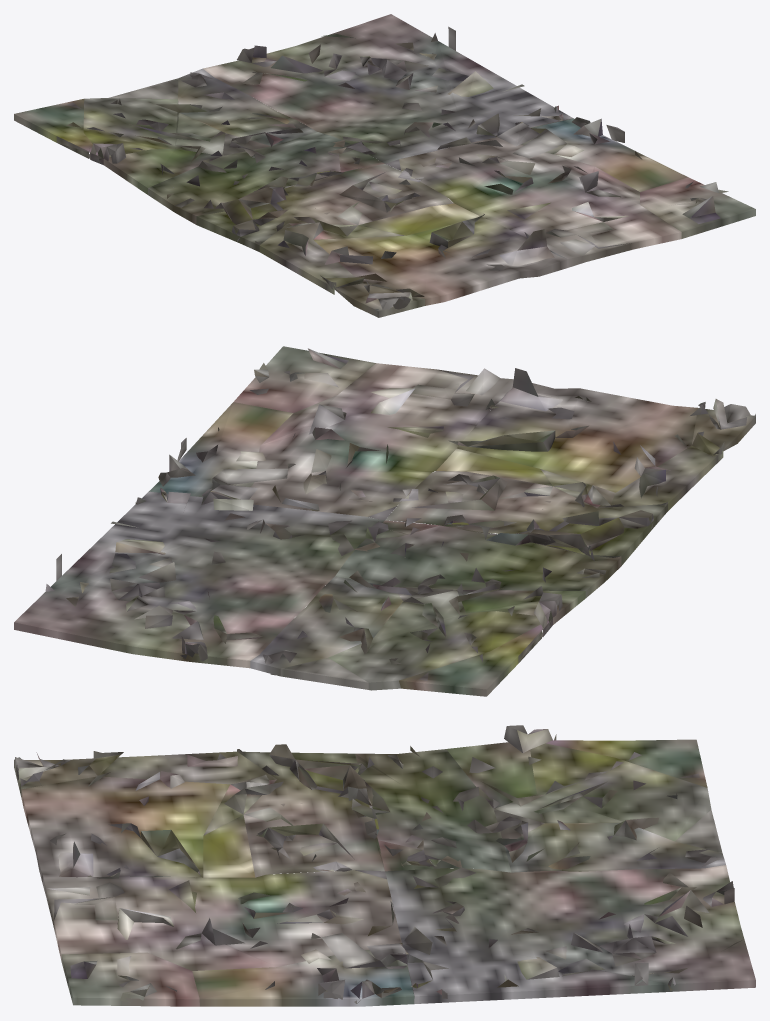
3 renders of one model, top to bottom at view 1: azimuth 30°, elevation 25°; view 2: azimuth 150°, elevation 25°; view 3: azimuth 270°, elevation 25°, orthographic. The views are drawn at different scales.
Parts seen in each view (by area): view 1: Mesh_0; view 2: Mesh_0; view 3: Mesh_0.
Boxes of the visible parts, box(x1,y1,x2,y2) form: Mesh_0: box(14, 14, 755, 317); Mesh_0: box(14, 346, 755, 696); Mesh_0: box(14, 725, 755, 1006).
Size of the model in its own units: 1064 by 119 by 1318.
1 material, 1 textured.
